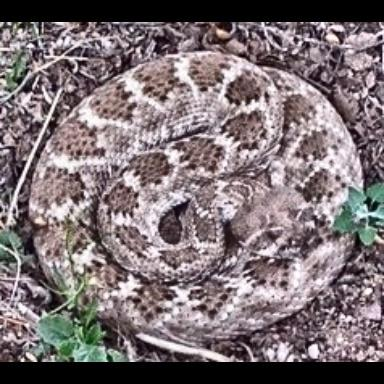snake: (0, 24, 384, 363)
